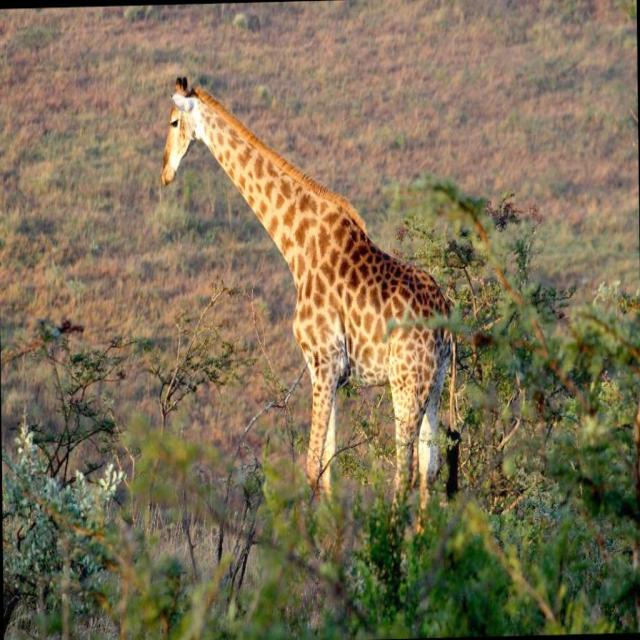Giraffe: (153, 66, 468, 531)
